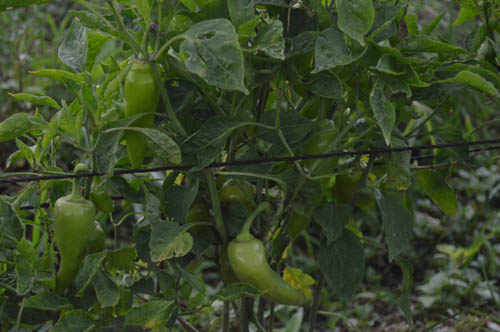ChiliPepper: (292, 134, 346, 226), (231, 243, 308, 303), (123, 70, 165, 166), (51, 202, 92, 288)
